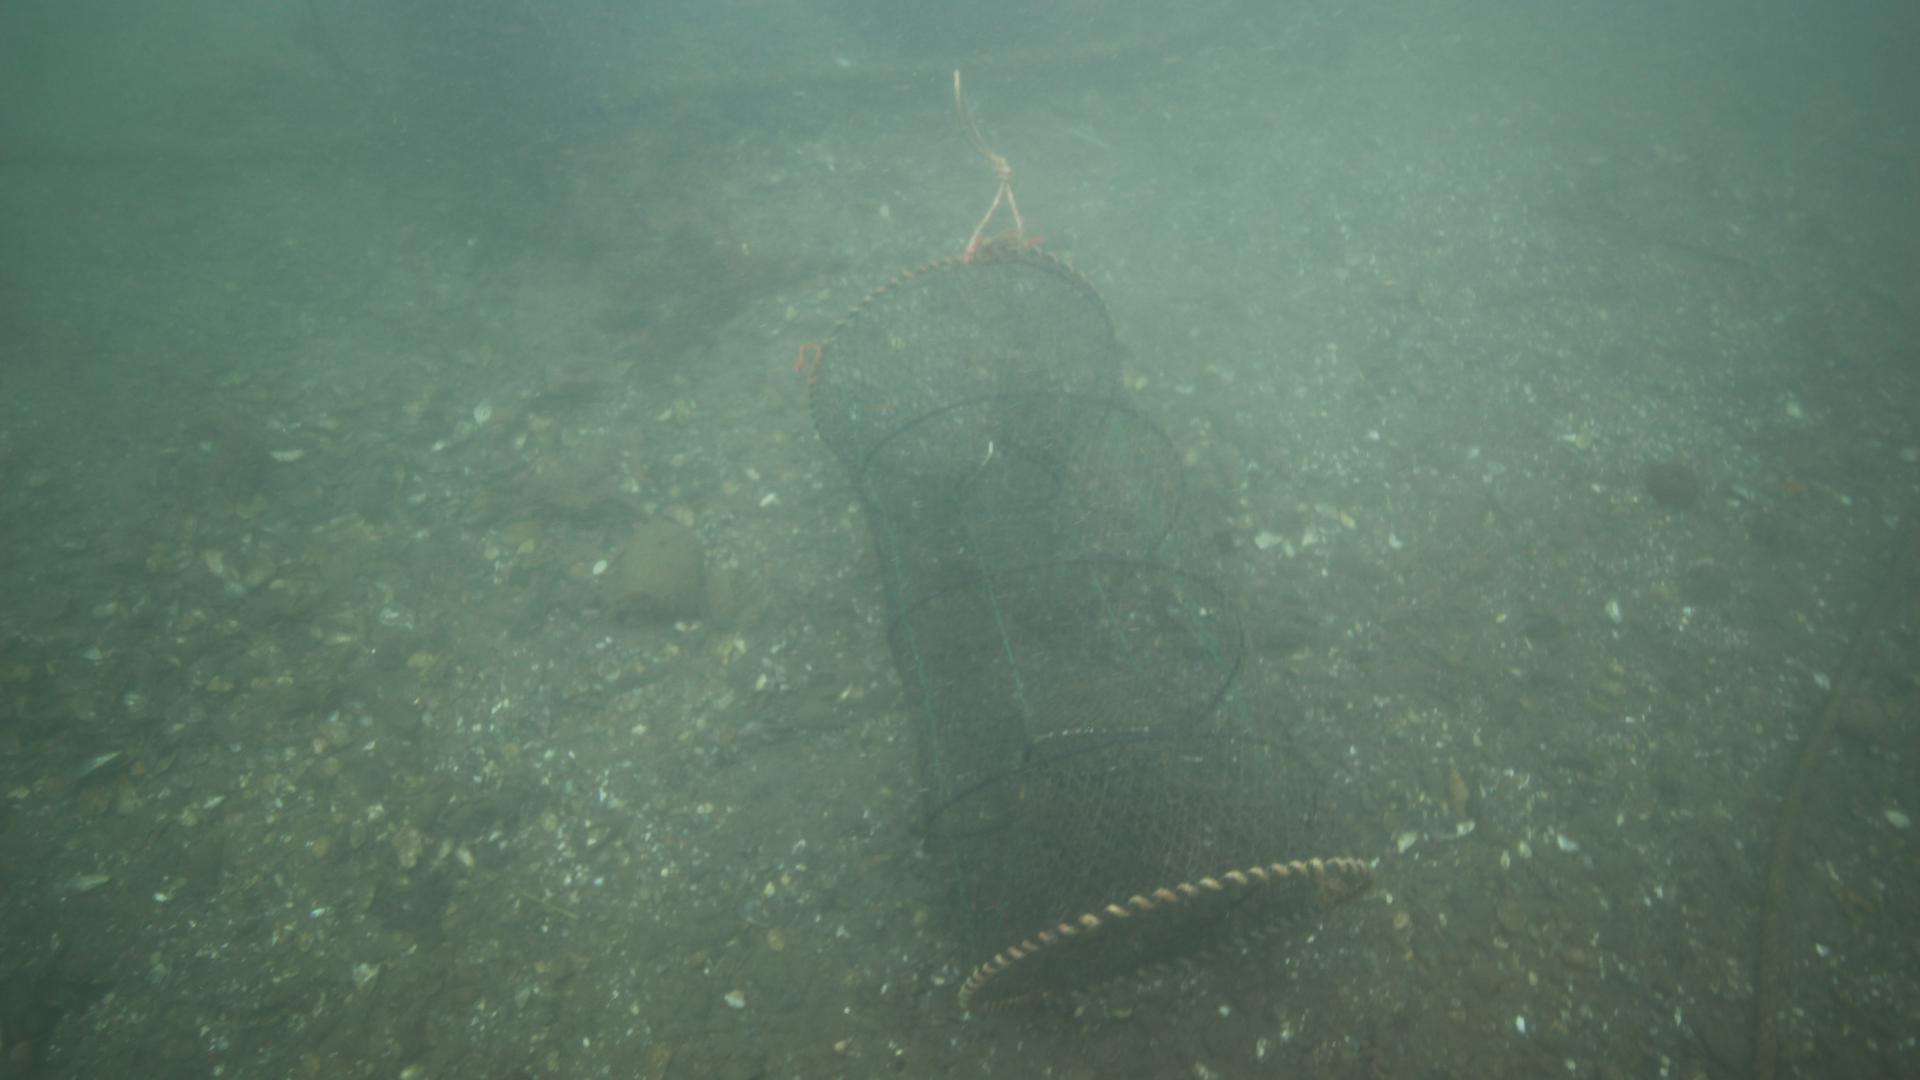bundle of ropes: (942, 63, 1035, 257)
spring fish trap: (800, 243, 1378, 1029)
